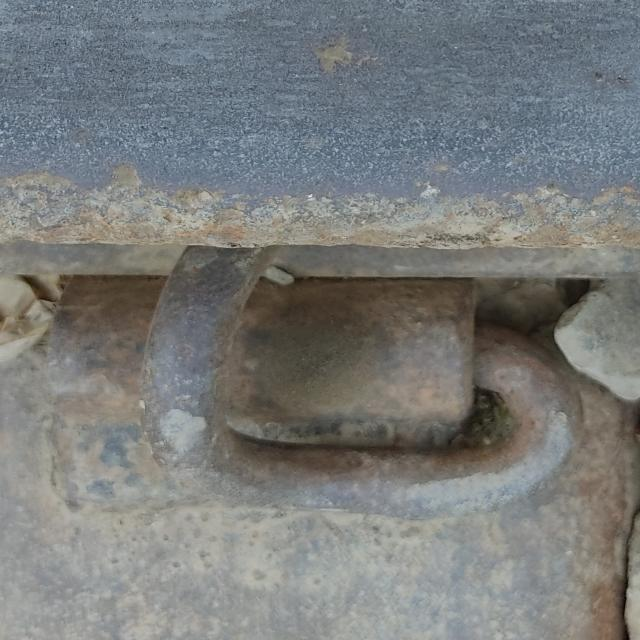track_bolt: (132, 246, 590, 522)
